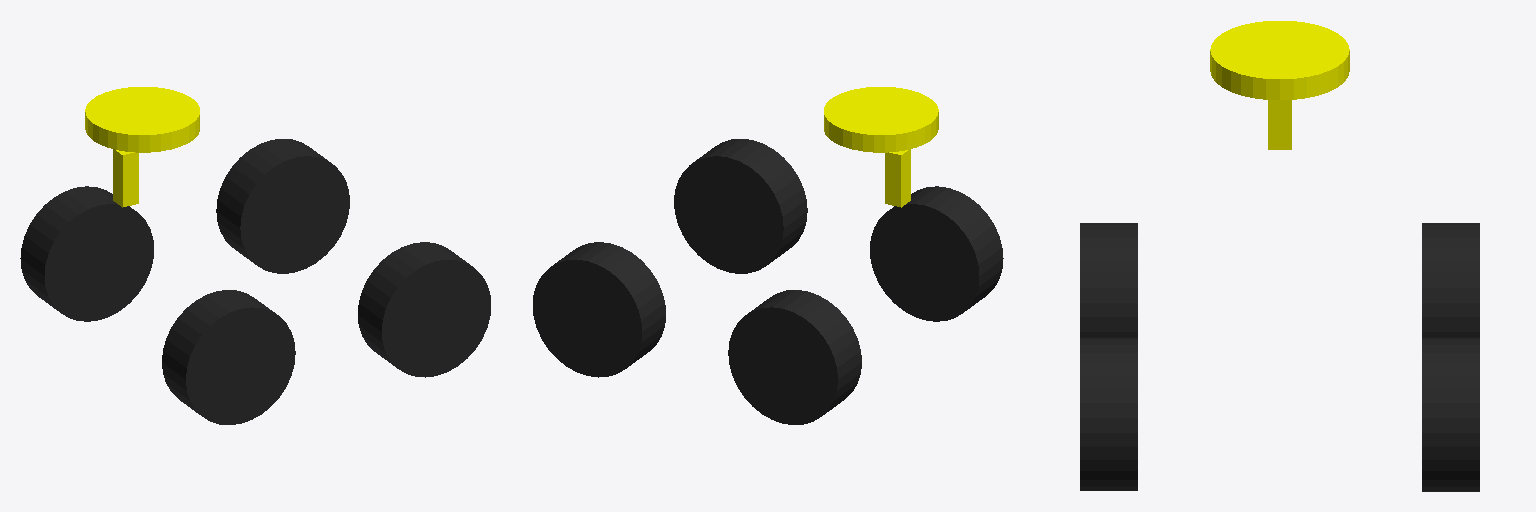
URDF robot description (robot):
<?xml version="1.0"?>

<robot name="robot">

  <!-- ====================================================== -->
  <!--                       BASE LINK                        -->
  <!-- ====================================================== -->

  <link name="base_link">

    <inertial>
      <origin
        xyz="0.0121459734710621 0.000198241570210142 0.0449906840595474"
        rpy="0 0 0"/>

      <mass value="1.00796524149794"/>

      <inertia
        ixx="0.000664022840014205"
        ixy="3.36477372709559E-06"
        ixz="-6.46022439037541E-06"
        iyy="0.00190520705036307"
        iyz="5.00471440887707E-10"
        izz="0.00244406959005576"/>
    </inertial>

    <!-- Modèle visuel simplifié pour Gazebo -->
    <visual>
      <origin xyz="0 0 0" rpy="0 0 0"/>

      <geometry>
        <mesh
          filename="file:///home/taleb/projet_be/src/robot_description/meshes/base_link_gazebo.STL"/>
      </geometry>

      <material name="yellow">
        <color rgba="1 1 0 1"/>
      </material>
    </visual>

    <!-- Collision simplifiée -->
    <collision>
      <origin xyz="0 0 0.045" rpy="0 0 0"/>

      <geometry>
        <box size="0.16 0.12 0.05"/>
      </geometry>
    </collision>

  </link>


  <!-- ====================================================== -->
  <!--                   ROUE ARRIERE GAUCHE                  -->
  <!-- ====================================================== -->

  <link name="left_rear_wheel">

    <inertial>
      <origin xyz="0 0 0" rpy="0 0 0"/>

      <mass value="0.0310322138231813"/>

      <inertia
        ixx="1.37618924502922E-05"
        ixy="0"
        ixz="0"
        iyy="1.37620600377143E-05"
        iyz="0"
        izz="2.28600342994284E-05"/>
    </inertial>

    <visual>
      <origin xyz="0 0 0" rpy="0 0 0"/>

      <geometry>
        <cylinder radius="0.033" length="0.025"/>
      </geometry>

      <material name="black">
        <color rgba="0.2 0.2 0.2 1"/>
      </material>
    </visual>

    <collision>
      <origin xyz="0 0 0" rpy="0 0 0"/>

      <geometry>
        <cylinder radius="0.033" length="0.025"/>
      </geometry>
    </collision>

  </link>


  <joint name="leftrearwheel" type="continuous">

    <origin
      xyz="0.0588 -0.07355 0.011"
      rpy="-1.5708 0 -3.1416"/>

    <parent link="base_link"/>
    <child link="left_rear_wheel"/>

    <axis xyz="0 0 -1"/>

    <limit effort="100" velocity="100"/>

    <dynamics damping="0.1" friction="0.1"/>

  </joint>


  <!-- ====================================================== -->
  <!--                   ROUE ARRIERE DROITE                  -->
  <!-- ====================================================== -->

  <link name="right_rear_wheel">

    <inertial>
      <origin xyz="0 0 0" rpy="0 0 0"/>

      <mass value="0.0310322138231813"/>

      <inertia
        ixx="1.37618924502922E-05"
        ixy="0"
        ixz="0"
        iyy="1.37620600377143E-05"
        iyz="0"
        izz="2.28600342994284E-05"/>
    </inertial>

    <visual>
      <origin xyz="0 0 0" rpy="0 0 0"/>

      <geometry>
        <cylinder radius="0.033" length="0.025"/>
      </geometry>

      <material name="black">
        <color rgba="0.2 0.2 0.2 1"/>
      </material>
    </visual>

    <collision>
      <origin xyz="0 0 0" rpy="0 0 0"/>

      <geometry>
        <cylinder radius="0.033" length="0.025"/>
      </geometry>
    </collision>

  </link>


  <joint name="rightrearwheel" type="continuous">

    <origin
      xyz="0.058826 0.07355 0.011"
      rpy="-1.5708 0 -3.1416"/>

    <parent link="base_link"/>
    <child link="right_rear_wheel"/>

    <axis xyz="0 0 -1"/>

    <limit effort="100" velocity="100"/>

    <dynamics damping="0.1" friction="0.1"/>

  </joint>


  <!-- ====================================================== -->
  <!--                    ROUE AVANT GAUCHE                   -->
  <!-- ====================================================== -->

  <link name="left_front_wheel">

    <inertial>
      <origin xyz="0 0 0" rpy="0 0 0"/>

      <mass value="0.0310322138231813"/>

      <inertia
        ixx="1.37618924502922E-05"
        ixy="0"
        ixz="0"
        iyy="1.37620600377143E-05"
        iyz="0"
        izz="2.28600342994284E-05"/>
    </inertial>

    <visual>
      <origin xyz="0 0 0" rpy="0 0 0"/>

      <geometry>
        <cylinder radius="0.033" length="0.025"/>
      </geometry>

      <material name="black">
        <color rgba="0.2 0.2 0.2 1"/>
      </material>
    </visual>

    <collision>
      <origin xyz="0 0 0" rpy="0 0 0"/>

      <geometry>
        <cylinder radius="0.033" length="0.025"/>
      </geometry>
    </collision>

  </link>


  <joint name="left_front_wheel_joint" type="continuous">

    <origin
      xyz="-0.058826 -0.07355 0.011"
      rpy="-1.5708 0 -3.1416"/>

    <parent link="base_link"/>
    <child link="left_front_wheel"/>

    <axis xyz="0 0 -1"/>

    <limit effort="100" velocity="100"/>

    <dynamics damping="0.1" friction="0.1"/>

  </joint>


  <!-- ====================================================== -->
  <!--                    ROUE AVANT DROITE                   -->
  <!-- ====================================================== -->

  <link name="right_front_wheel">

    <inertial>
      <origin xyz="0 0 0" rpy="0 0 0"/>

      <mass value="0.0310322138231806"/>

      <inertia
        ixx="1.37618924502919E-05"
        ixy="0"
        ixz="0"
        iyy="1.3762060037714E-05"
        iyz="0"
        izz="2.28600342994278E-05"/>
    </inertial>

    <visual>
      <origin xyz="0 0 0" rpy="0 0 0"/>

      <geometry>
        <cylinder radius="0.033" length="0.025"/>
      </geometry>

      <material name="black">
        <color rgba="0.2 0.2 0.2 1"/>
      </material>
    </visual>

    <collision>
      <origin xyz="0 0 0" rpy="0 0 0"/>

      <geometry>
        <cylinder radius="0.033" length="0.025"/>
      </geometry>
    </collision>

  </link>


  <joint name="rightfrontwheel" type="continuous">

    <origin
      xyz="-0.0588 0.07355 0.011"
      rpy="-1.5708 0 -3.1416"/>

    <parent link="base_link"/>
    <child link="right_front_wheel"/>

    <axis xyz="0 0 -1"/>

    <limit effort="100" velocity="100"/>

    <dynamics damping="0.1" friction="0.1"/>

  </joint>


  <!-- ====================================================== -->
  <!--                         LIDAR                          -->
  <!-- ====================================================== -->

  <link name="lidar_link">

    <inertial>
      <origin xyz="0 0 0" rpy="0 0 0"/>

      <mass value="0.125"/>

      <inertia
        ixx="0.001"
        ixy="0"
        ixz="0"
        iyy="0.001"
        iyz="0"
        izz="0.001"/>
    </inertial>

    <visual>
      <origin xyz="0 0 0" rpy="0 0 0"/>

      <geometry>
        <cylinder radius="0.03" length="0.01"/>
      </geometry>

      <material name="lidar_jaune">
        <color rgba="1 1 0 1"/>
      </material>
    </visual>

    <collision>
      <origin xyz="0 0 0" rpy="0 0 0"/>

      <geometry>
        <cylinder radius="0.03" length="0.01"/>
      </geometry>
    </collision>

  </link>


  <joint name="lidar_joint" type="fixed">

    <origin xyz="-0.068 0 0.12" rpy="0 0 0"/>

    <parent link="base_link"/>
    <child link="lidar_link"/>

  </joint>


  <!-- ====================================================== -->
  <!--                       CAMERA LINK                      -->
  <!-- ====================================================== -->

  <link name="camera_link">

    <inertial>
      <origin xyz="0 0 0" rpy="0 0 0"/>

      <mass value="0.08"/>

      <inertia
        ixx="0.0001"
        ixy="0"
        ixz="0"
        iyy="0.0001"
        iyz="0"
        izz="0.0001"/>
    </inertial>

    <visual>
      <origin xyz="0 0 0" rpy="0 0 0"/>

      <geometry>
        <box size="0.01 0.01 0.03"/>
      </geometry>

      <material name="camera_jaune">
        <color rgba="1 1 0 1"/>
      </material>
    </visual>

    <collision>
      <origin xyz="0 0 0" rpy="0 0 0"/>

      <geometry>
        <box size="0.001 0.001 0.03"/>
      </geometry>
    </collision>

  </link>


  <joint name="camera_joint" type="fixed">

    <origin
      xyz="-0.078 0 0.09"
      rpy="0 0 3.15"/>

    <parent link="base_link"/>
    <child link="camera_link"/>

  </joint>


  <!-- ====================================================== -->
  <!--                CAMERA OPTICAL FRAME                    -->
  <!-- ====================================================== -->

  <link name="camera_optical_link"/>


  <joint name="camera_optical_joint" type="fixed">

    <origin
      xyz="0 0 0"
      rpy="-1.5707963267948966 0 -1.5707963267948966"/>

    <parent link="camera_link"/>
    <child link="camera_optical_link"/>

  </joint>


  <!-- ====================================================== -->
  <!--             CONTROLEUR DIFFERENTIEL GAZEBO             -->
  <!-- ====================================================== -->

  <gazebo>

    <plugin
      name="diff_drive"
      filename="libgazebo_ros_diff_drive.so">

      <!-- Deux paires de roues -->
      <num_wheel_pairs>2</num_wheel_pairs>

      <!-- Paire avant -->
      <left_joint>left_front_wheel_joint</left_joint>
      <right_joint>rightfrontwheel</right_joint>

      <!-- Paire arrière -->
      <left_joint>leftrearwheel</left_joint>
      <right_joint>rightrearwheel</right_joint>

      <!-- Géométrie du robot -->
      <wheel_separation>0.1471</wheel_separation>
      <wheel_diameter>0.066</wheel_diameter>

      <!-- Limites -->
      <max_wheel_torque>5.0</max_wheel_torque>
      <max_wheel_acceleration>10.0</max_wheel_acceleration>

      <!-- Topics ROS 2 -->
      <command_topic>cmd_vel</command_topic>
      <odometry_topic>odom</odometry_topic>

      <!-- Repères -->
      <odometry_frame>odom</odometry_frame>
      <robot_base_frame>base_link</robot_base_frame>

      <!-- Publication de l'odométrie -->
      <publish_odom>true</publish_odom>
      <publish_odom_tf>true</publish_odom_tf>
      <publish_wheel_tf>false</publish_wheel_tf>

    </plugin>

  </gazebo>


  <!-- ====================================================== -->
  <!--              CAMERA DE PROFONDEUR GAZEBO               -->
  <!-- ====================================================== -->

  <gazebo reference="camera_link">

    <sensor
      name="depth_camera"
      type="depth">

      <always_on>true</always_on>

      <update_rate>10.0</update_rate>

      <visualize>true</visualize>

      <camera>

        <horizontal_fov>1.047</horizontal_fov>

        <image>
          <width>640</width>
          <height>480</height>
          <format>R8G8B8</format>
        </image>

        <clip>
          <near>0.10</near>
          <far>4.0</far>
        </clip>

      </camera>


      <plugin
        name="depth_camera_controller"
        filename="libgazebo_ros_camera.so">

        <ros>
          <namespace>/depth_camera</namespace>
        </ros>

        <camera_name>depth_camera</camera_name>

        <frame_name>camera_optical_link</frame_name>

        <min_depth>0.10</min_depth>
        <max_depth>4.0</max_depth>

      </plugin>

    </sensor>

  </gazebo>


</robot>

--- What the picture shows (computed from the rendered views, not written in the file) ---
Views: 3 orthographic renders of the robot side by side, from view 1: azimuth 30°, elevation 25°; view 2: azimuth 150°, elevation 25°; view 3: azimuth 270°, elevation 25°.
Robot: robot — 8 links, 7 joints (4 continuous, 3 fixed); root link base_link; default pose: all joints at 0.
Visible links, largest first — view 1: right_rear_wheel, left_front_wheel, left_rear_wheel, right_front_wheel, lidar_link, camera_link; view 2: right_front_wheel, left_rear_wheel, right_rear_wheel, left_front_wheel, lidar_link, camera_link; view 3: lidar_link, right_rear_wheel, left_rear_wheel, left_front_wheel, right_front_wheel, camera_link.
Link boxes in pixels (x1,y1,x2,y2): right_rear_wheel: (216,139,349,273); left_front_wheel: (162,290,295,424); left_rear_wheel: (358,242,490,377); right_front_wheel: (20,186,153,321); lidar_link: (85,87,199,152); camera_link: (113,149,138,207); right_front_wheel: (728,290,861,424); left_rear_wheel: (674,139,807,273); right_rear_wheel: (533,242,665,377); left_front_wheel: (870,186,1003,321); lidar_link: (824,87,938,152); camera_link: (885,149,910,207); lidar_link: (1210,21,1349,99); right_rear_wheel: (1422,338,1479,491); left_rear_wheel: (1080,338,1137,490); left_front_wheel: (1080,223,1137,337); right_front_wheel: (1422,223,1479,337); camera_link: (1268,100,1291,149).
Bounding box of the posed robot: 0.1898 × 0.1721 × 0.147 m (x, y, z).
Geometry: only primitive shapes (box / cylinder / sphere) drawn; not drawn: 1 mesh visual (reference in a form the renderer does not follow).
